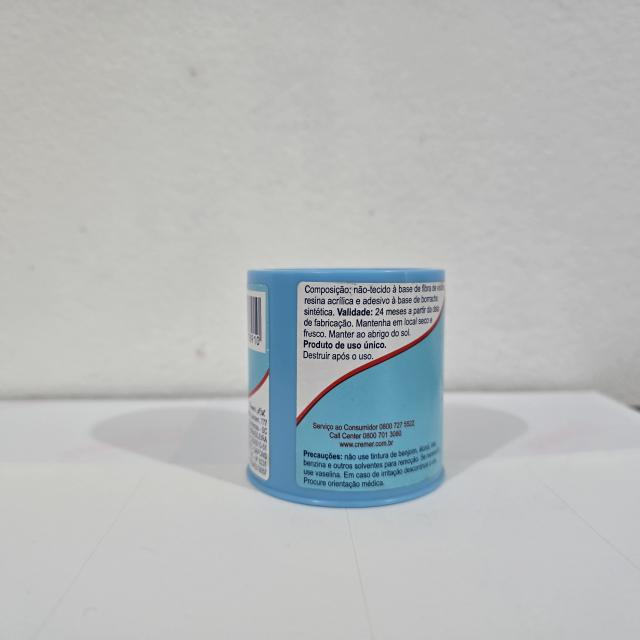procitex: (241, 263, 449, 512)
